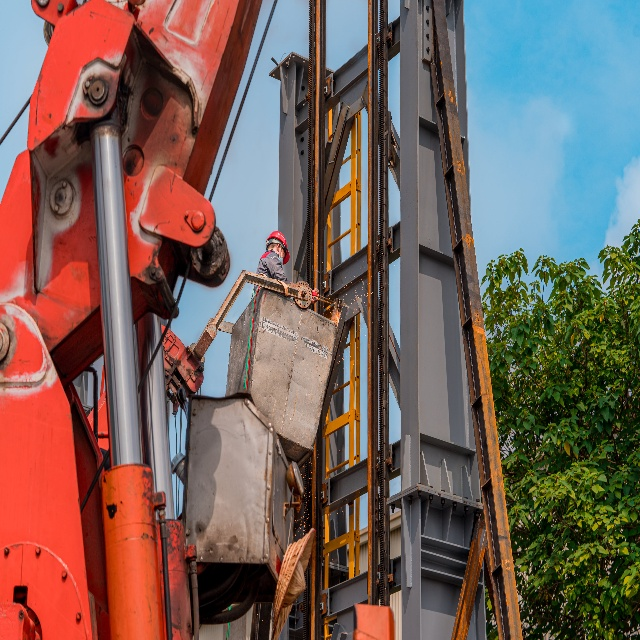Mascara: (278, 248, 283, 265)
Sin_guantes: (311, 287, 319, 304)
